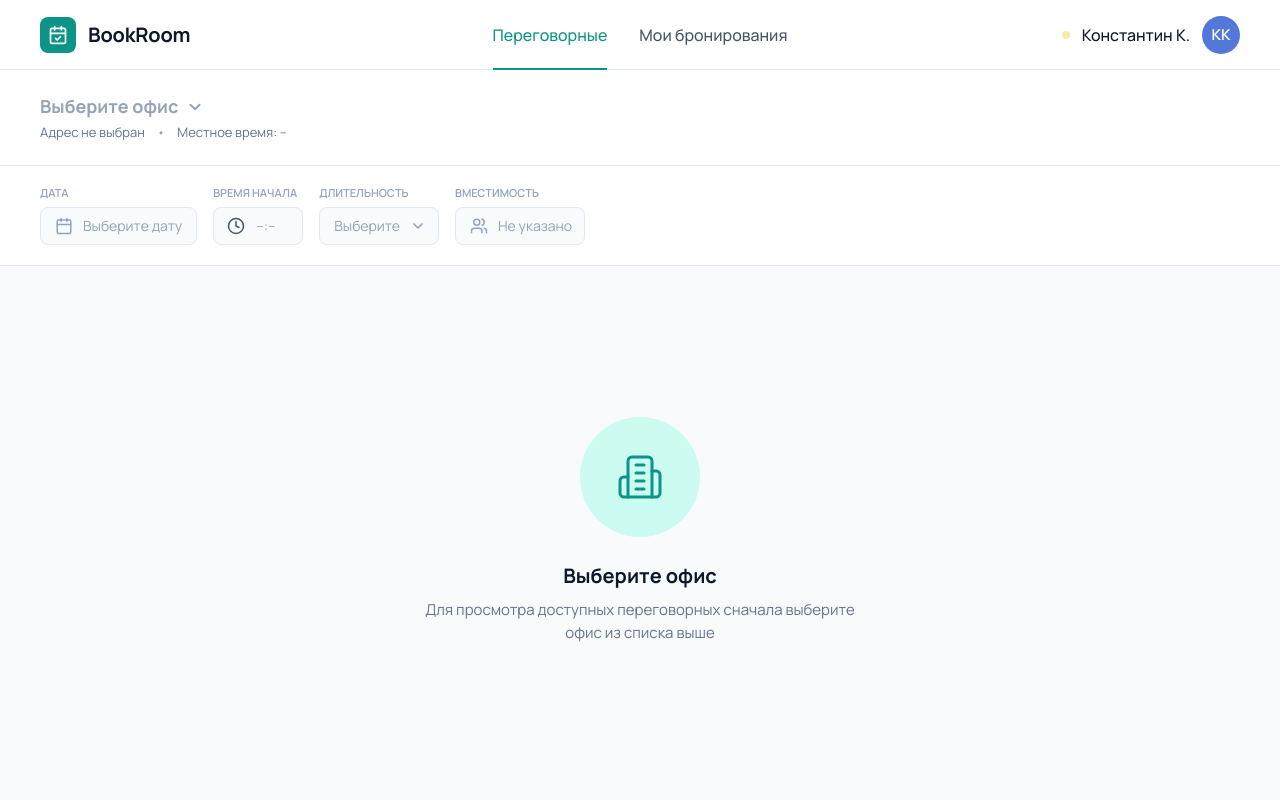
маршрутизация › навигация по табам меняет маршрут
The image size is (1280, 800).
Click the link "Мои бронирования". click: (713, 34)
box: 639,24 -> 787,46
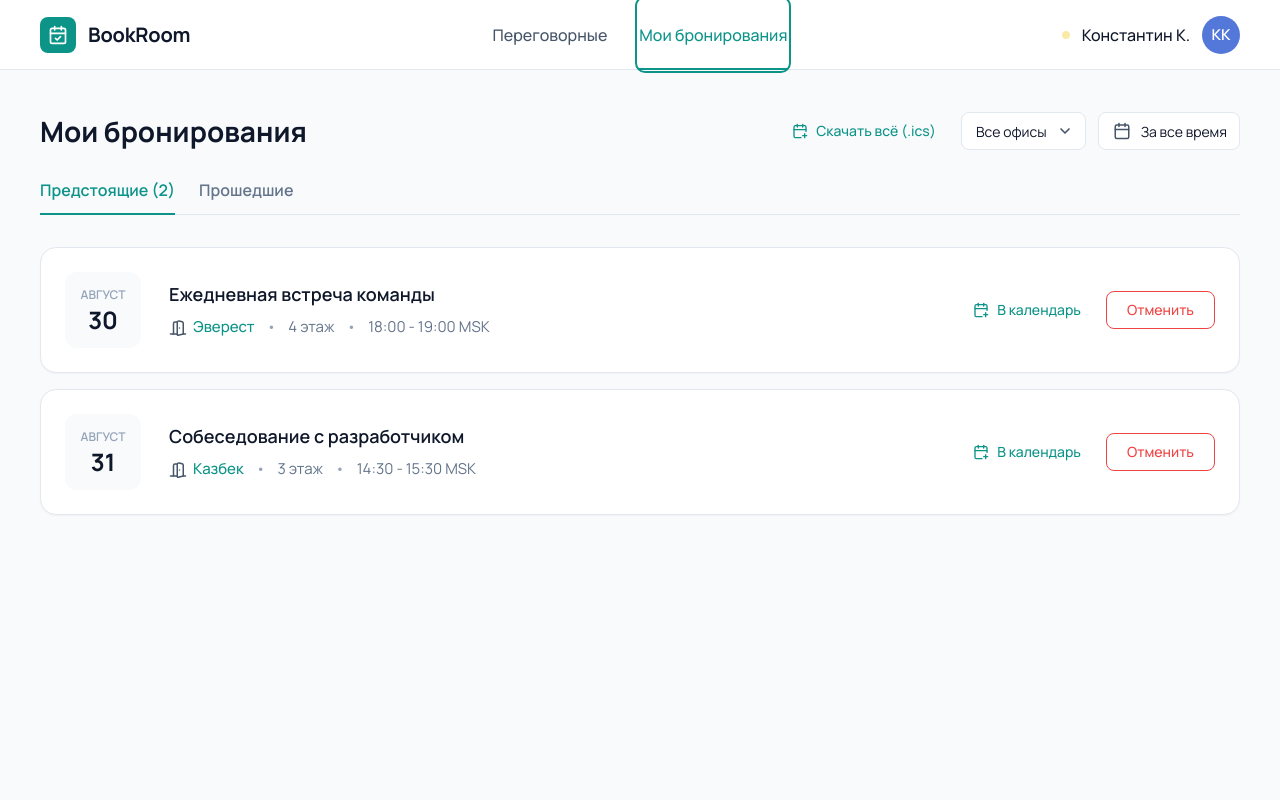
Result: the heading "Мои бронирования" is shown at 40,113 -> 307,149
